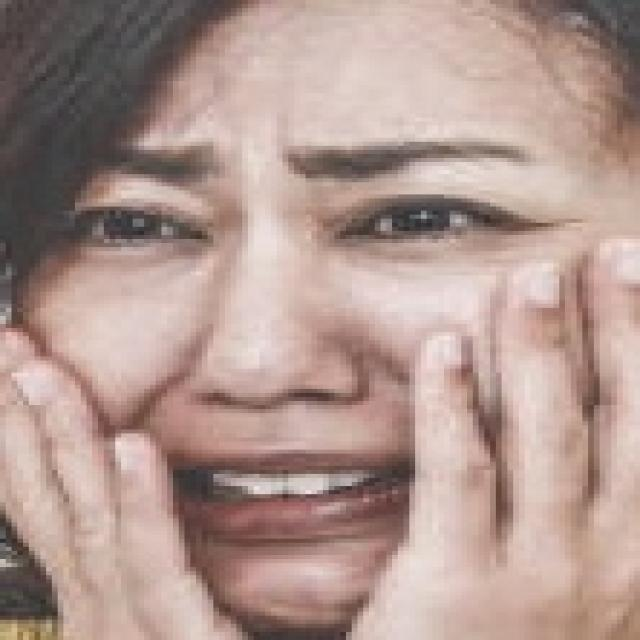Anxiety: (23, 0, 632, 636)
